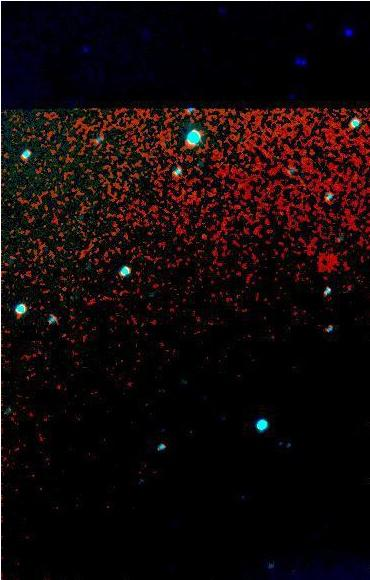star: (189, 220, 219, 250)
